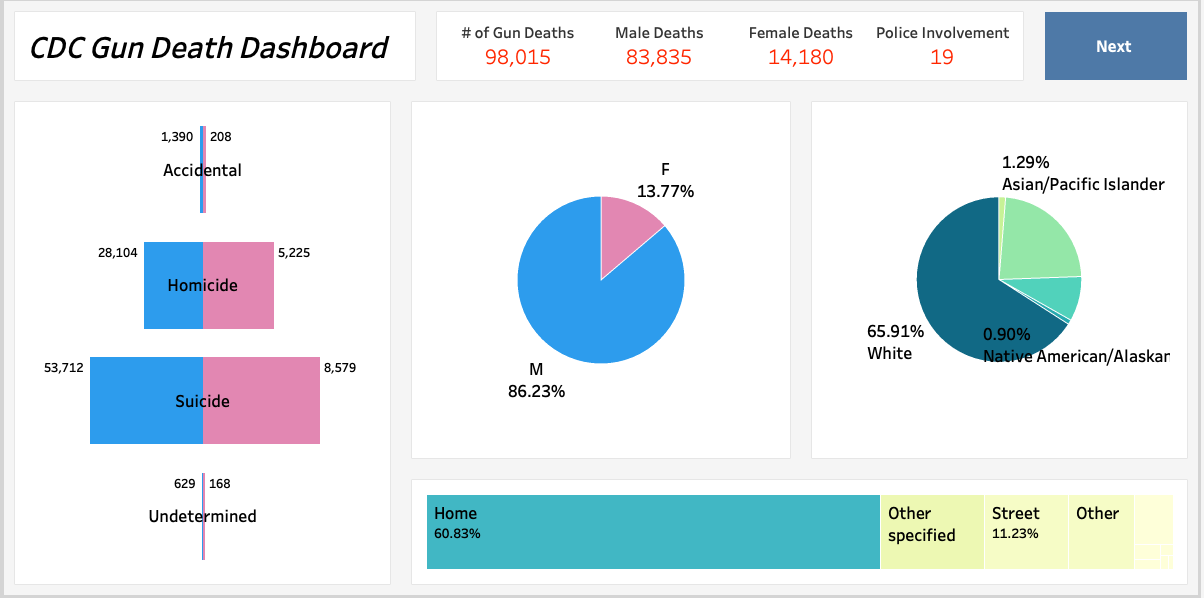

This screenshot's page, from the dashboard's own definition file:
{"tool":"tableau","page":{"name":"Dashboard 1","canvas":[1200,600],"ordinal":0},"visuals":[{"type":"text","box":[3,3,422,90]},{"type":"worksheet","title":"KPIs","mark":"Text","box":[425,3,608,90]},{"type":"dashboard-object","box":[1033,3,164,90]},{"type":"worksheet","title":"Gun Death by Intent","mark":"Automatic","rows":["intent"],"cols":["Calculation_3022337592562077697","Calculation_3022337592561053696","Calculation_3022337592562339842","Calculation_3022337592561053696"],"box":[3,93,397,504]},{"type":"worksheet","title":"Gun Death by Gender","mark":"Pie","box":[400,93,400,378]},{"type":"worksheet","title":"Gun Death by Race","mark":"Pie","box":[800,93,397,378]},{"type":"worksheet","title":"Gun Death by Place","mark":"Automatic","box":[400,471,797,126]}]}

Visuals, with their boxes in screenshot pixels (x1, y1, x2, y2), scaled from the page's 1200x600 canvas onto the 1204x598 screenshot:
text: x1=3, y1=3, x2=426, y2=93
"KPIs" worksheet (Text marks): x1=426, y1=3, x2=1036, y2=93
dashboard-object: x1=1036, y1=3, x2=1201, y2=93
"Gun Death by Intent" worksheet: x1=3, y1=93, x2=401, y2=595
"Gun Death by Gender" worksheet (Pie marks): x1=401, y1=93, x2=803, y2=469
"Gun Death by Race" worksheet (Pie marks): x1=803, y1=93, x2=1201, y2=469
"Gun Death by Place" worksheet: x1=401, y1=469, x2=1201, y2=595
